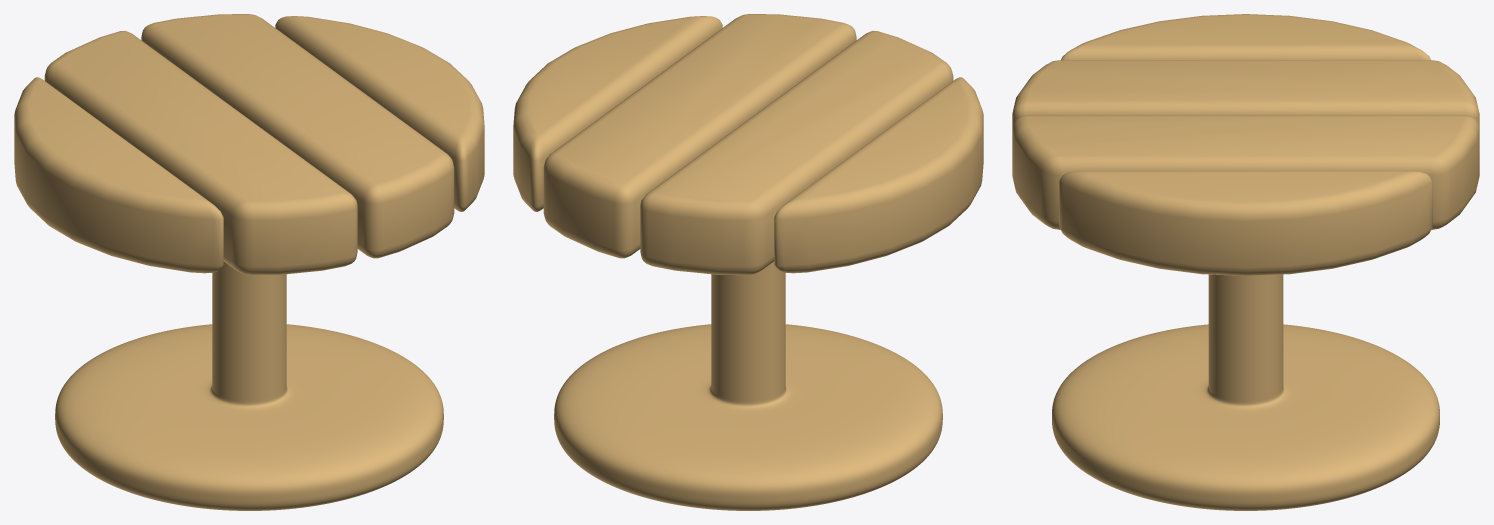
The model's file is Mesa redonda madera.fbx.
3 renders of one model, left to right at view 1: azimuth 30°, elevation 25°; view 2: azimuth 150°, elevation 25°; view 3: azimuth 270°, elevation 25°, orthographic.
Parts seen in each view (by area): view 1: Circle.001, Circle; view 2: Circle.001, Circle; view 3: Circle.001, Circle.
Boxes of the visible parts, left/top/right/bottom form: Circle.001: left=14, top=14, right=484, bottom=275; Circle: left=55, top=261, right=443, bottom=510; Circle.001: left=513, top=14, right=983, bottom=275; Circle: left=554, top=261, right=942, bottom=510; Circle.001: left=1012, top=14, right=1479, bottom=275; Circle: left=1052, top=274, right=1439, bottom=510.
Bounding box in the file's own units: 375 × 290 × 372.
